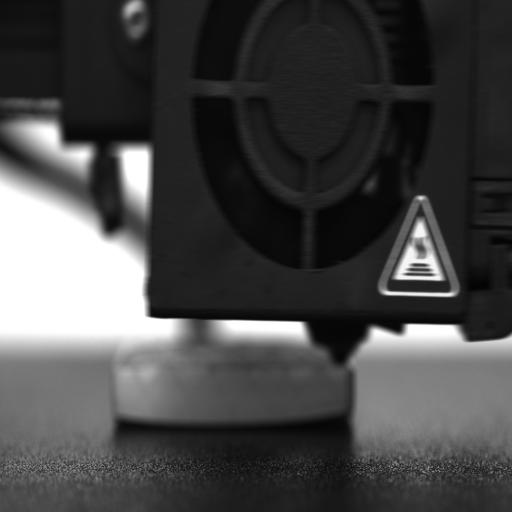warp: (112, 401, 346, 432)
